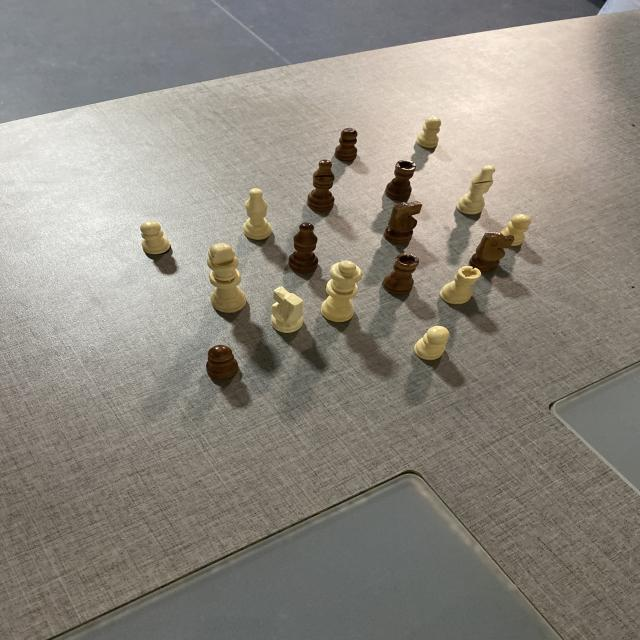Black-Bishop: (306, 159, 335, 210), (289, 222, 317, 270)
Black-Knight: (469, 232, 513, 273), (384, 199, 421, 243)
Black-Pawn: (205, 345, 240, 382), (335, 128, 357, 160)
Black-Rook: (384, 254, 422, 294), (383, 159, 418, 201)
White-Bishop: (459, 165, 499, 217), (242, 188, 272, 240)
White-King: (207, 242, 244, 314)
White-Knight: (270, 288, 304, 332)
White-Pawn: (414, 325, 451, 361), (498, 212, 534, 245), (139, 221, 170, 254), (419, 116, 441, 148)
White-Queen: (321, 259, 363, 322)
White-Rook: (442, 264, 480, 303)
